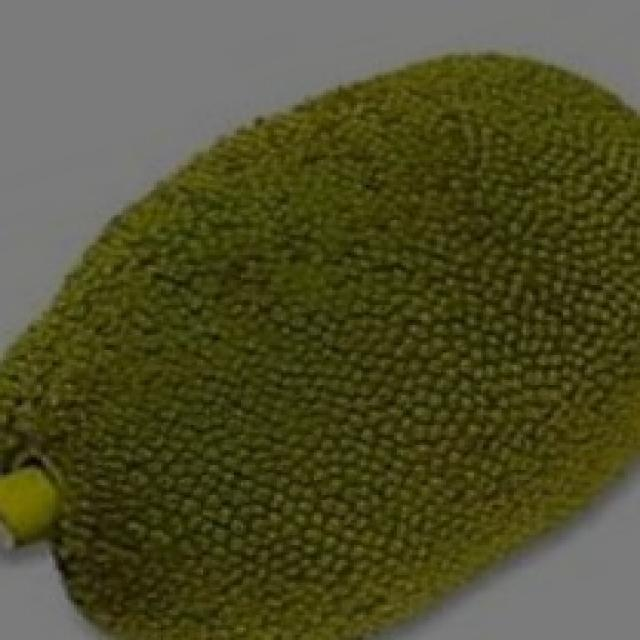Fruit: (0, 297, 366, 640), (215, 28, 637, 320)
